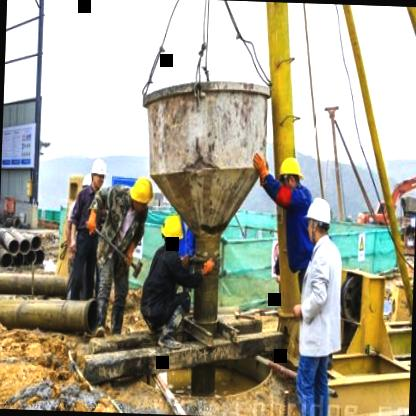helmet: (304, 194, 332, 244), (127, 174, 157, 218), (159, 210, 185, 248), (278, 156, 302, 194), (88, 156, 109, 193)
